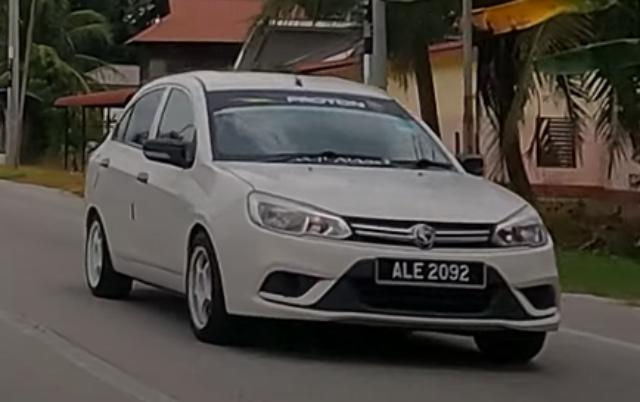License_Plate: (373, 257, 488, 290)
car: (82, 69, 562, 365)
